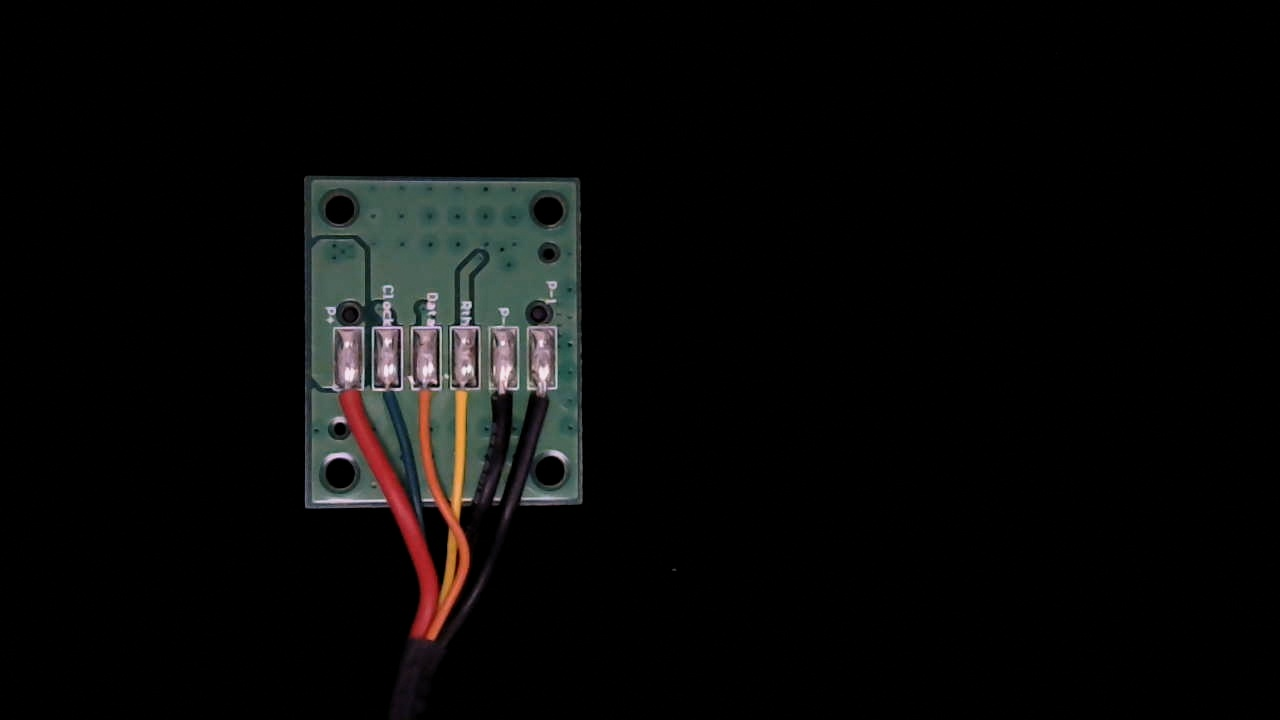Black: (485, 374, 520, 442)
Black1: (530, 374, 560, 436)
Green: (368, 371, 403, 442)
Orange: (410, 372, 442, 445)
Red: (331, 374, 366, 445)
Yellow: (448, 372, 480, 435)
